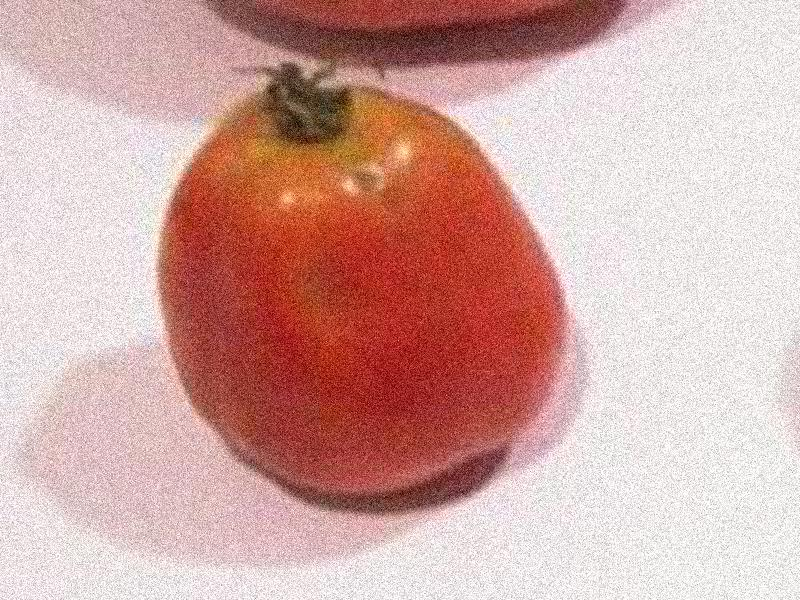Tomato: (160, 80, 564, 484)
